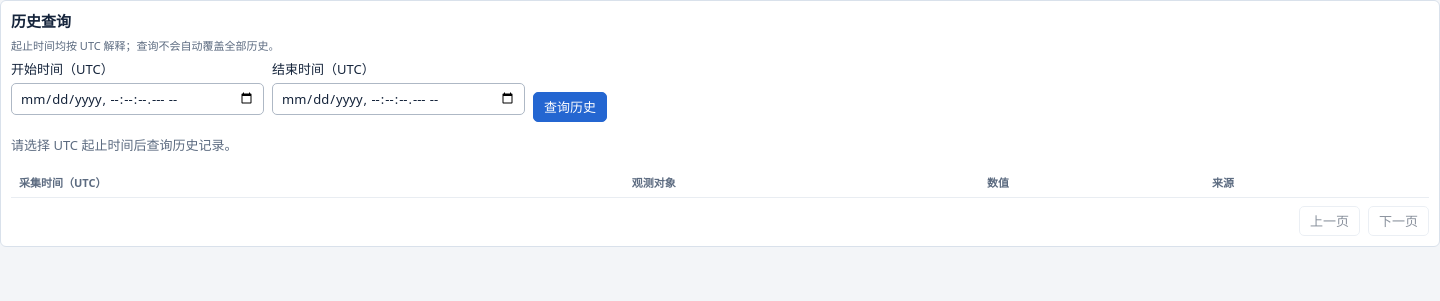
rejects negative or overflowing history bounds without changing shared export conversion
Later steps or results of the test are not shown.
Type "1969-12-31T23:59:59.000" into the field labelled "开始时间（UTC）" at (138, 99), box [11, 83, 264, 115]
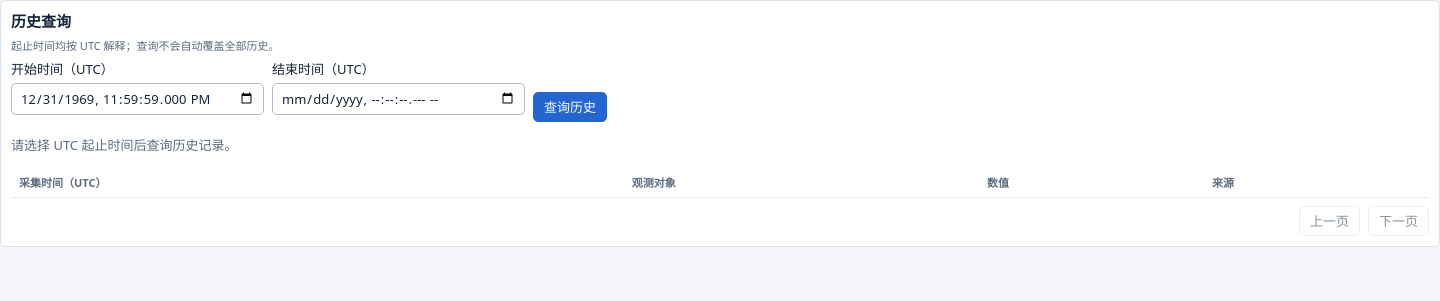
Type "1970-01-01T00:00:01.000" into the field labelled "结束时间（UTC）" at (398, 99), box [272, 83, 525, 115]
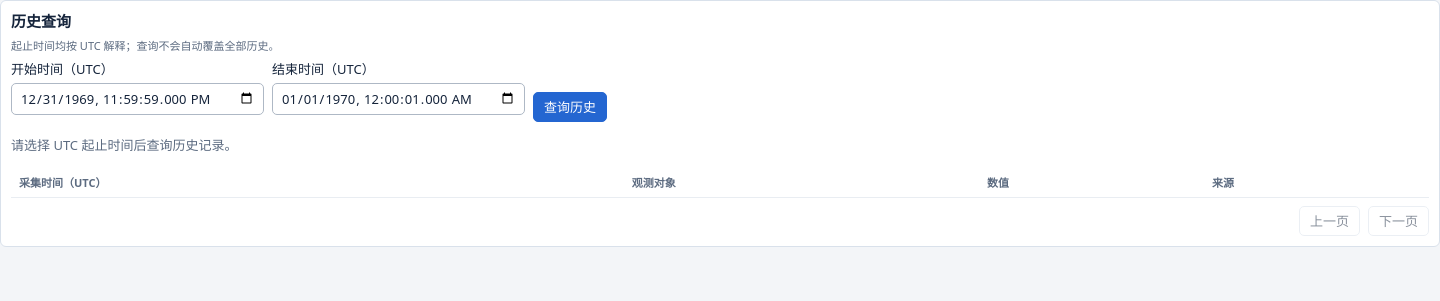
Click the button "查询历史" at (570, 107), box [533, 92, 607, 122]
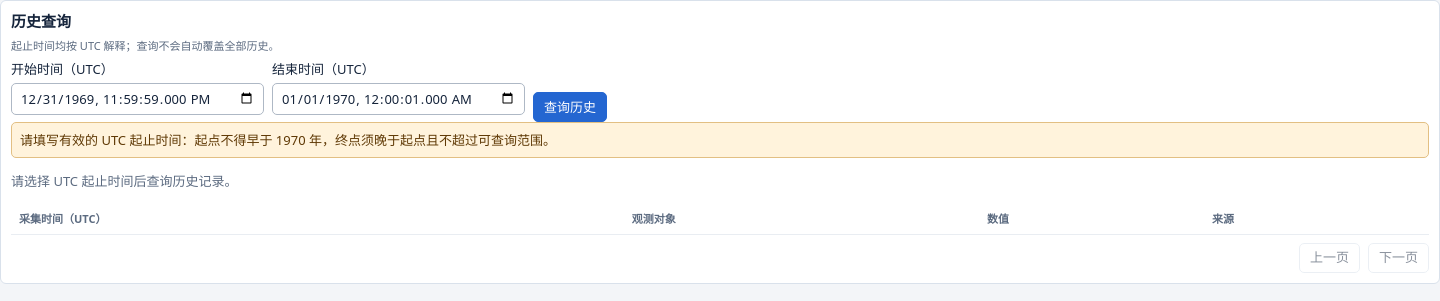
Expected: the message shows "起点不得早于 1970 年", [20, 131, 556, 149]
